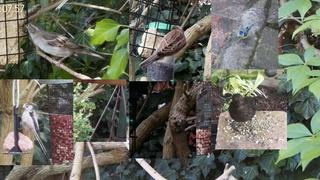blackbird: (228, 93, 263, 138)
blue tit: (237, 24, 254, 47)
long tailed tit: (19, 103, 49, 159)
sparrow: (24, 22, 105, 69), (139, 24, 187, 70)
